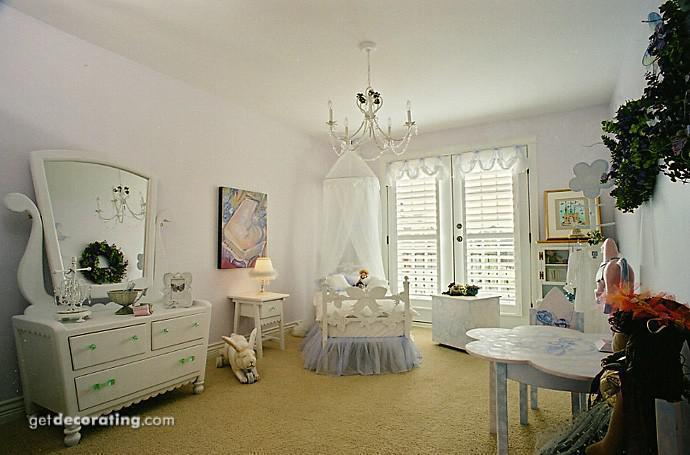Armario: (61, 314, 204, 410)
Cama: (317, 180, 414, 367)
Otro Obstaculo: (553, 306, 685, 444), (214, 329, 264, 388)
Puerta: (393, 167, 523, 322)
